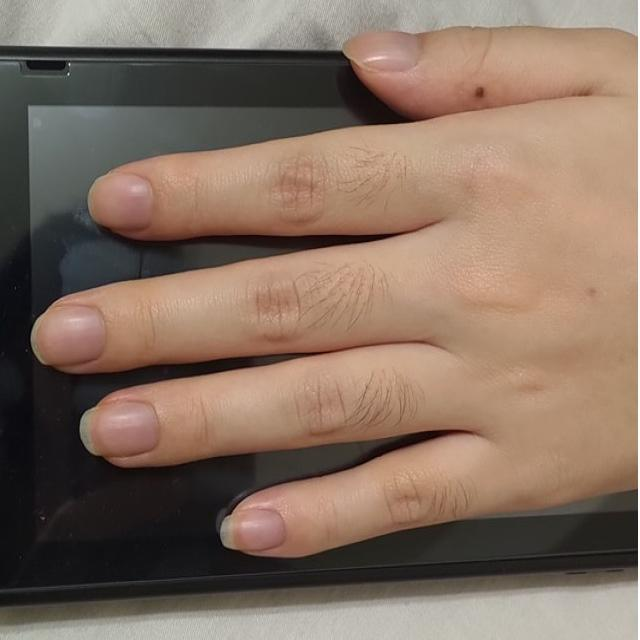Nail: (31, 303, 106, 367), (79, 399, 159, 459), (88, 170, 153, 231), (344, 31, 422, 71), (220, 509, 286, 553)
